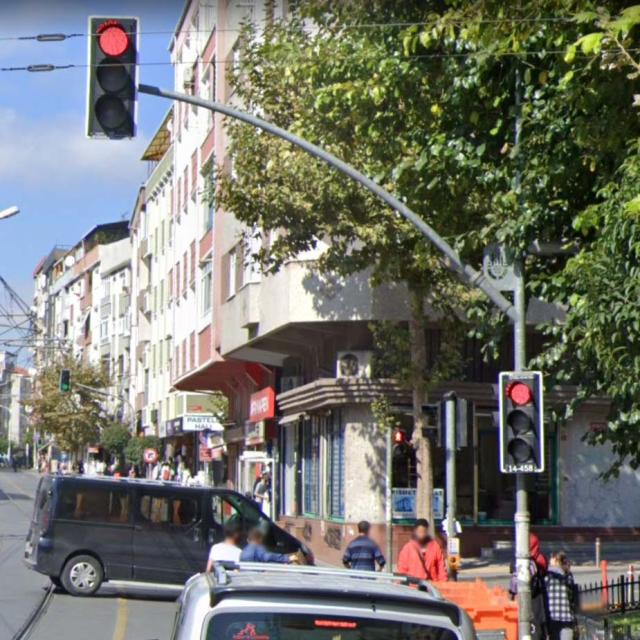kirmizi: (87, 15, 136, 139), (499, 371, 544, 471)
